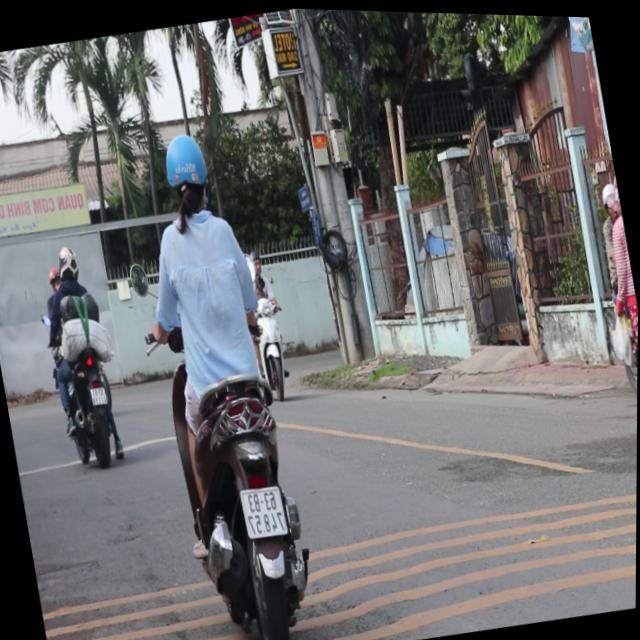helmet: (159, 124, 218, 218), (57, 240, 81, 281)
licenseplate: (111, 115, 334, 640), (32, 235, 133, 470)
nohelmet: (241, 481, 289, 536), (91, 384, 108, 405)
